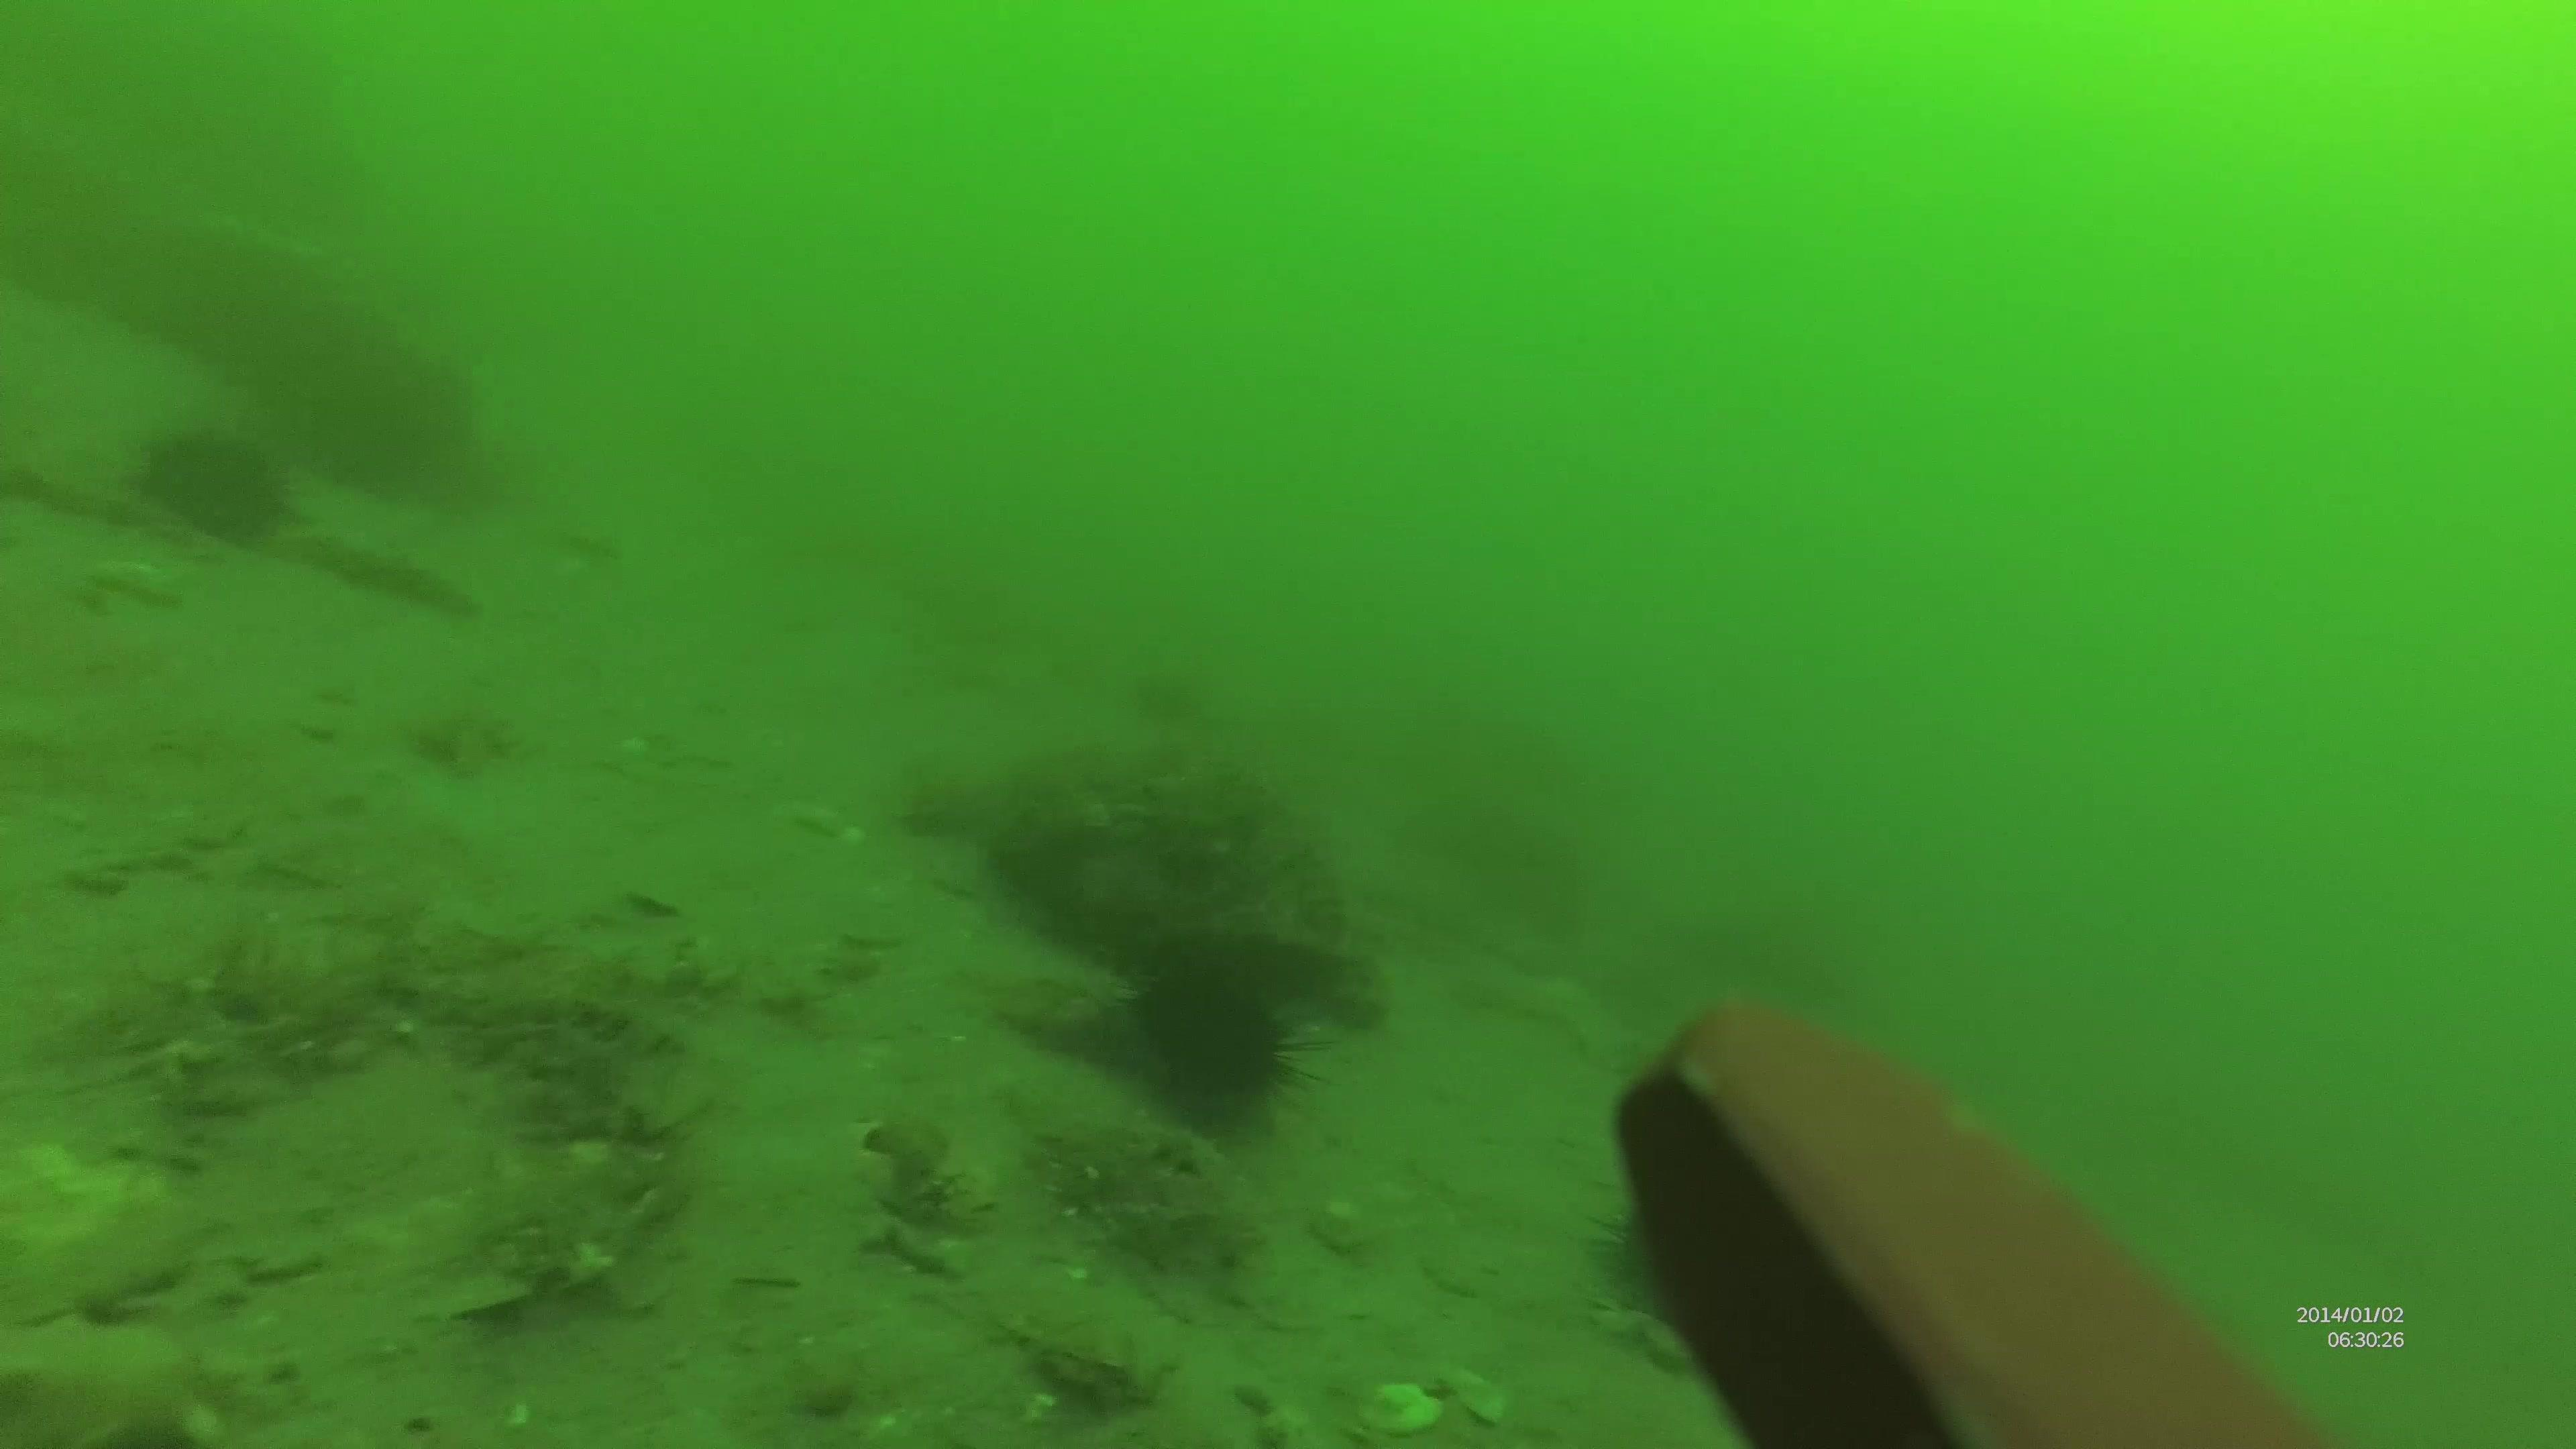echinus: (1116, 952, 1293, 1136), (127, 419, 308, 538)
